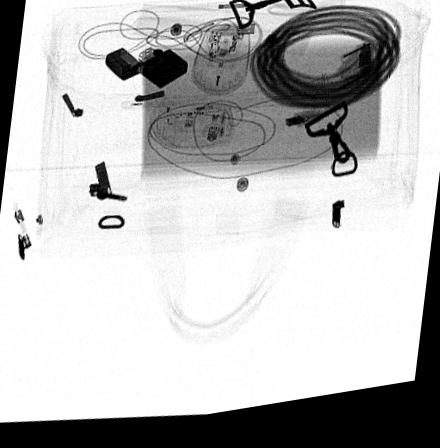Lighter: (103, 52, 189, 95)
